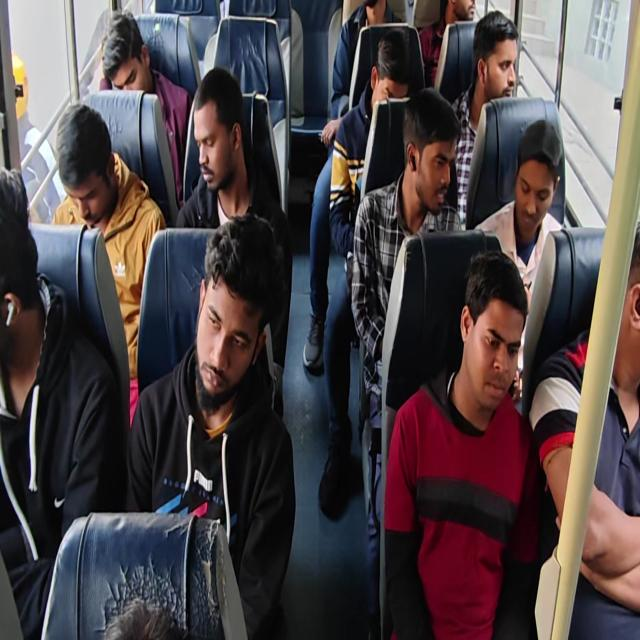person: (1, 2, 638, 638), (126, 212, 296, 638), (349, 86, 464, 636), (383, 248, 544, 638), (0, 166, 123, 638), (528, 221, 640, 638), (318, 28, 412, 520), (175, 66, 293, 419), (50, 101, 166, 428), (329, 29, 411, 257), (99, 10, 193, 205), (474, 118, 564, 313), (448, 10, 519, 226), (322, 0, 406, 149), (10, 50, 63, 223), (418, 0, 476, 89), (103, 597, 195, 639)
